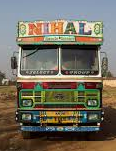truck: (10, 19, 105, 139)
